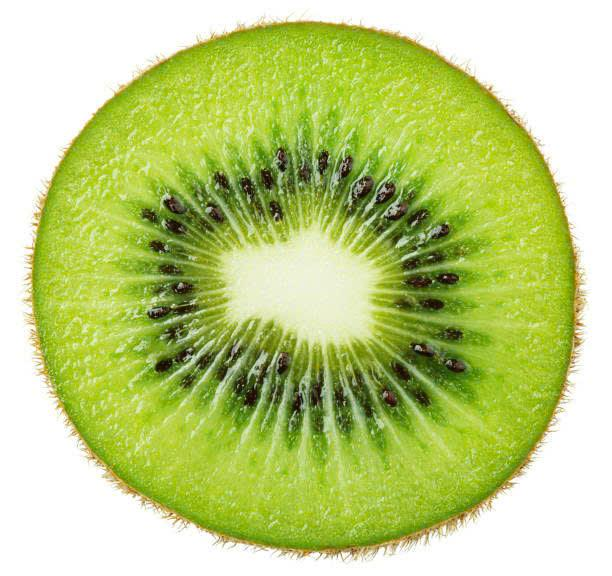kiwi: (27, 17, 576, 562)
